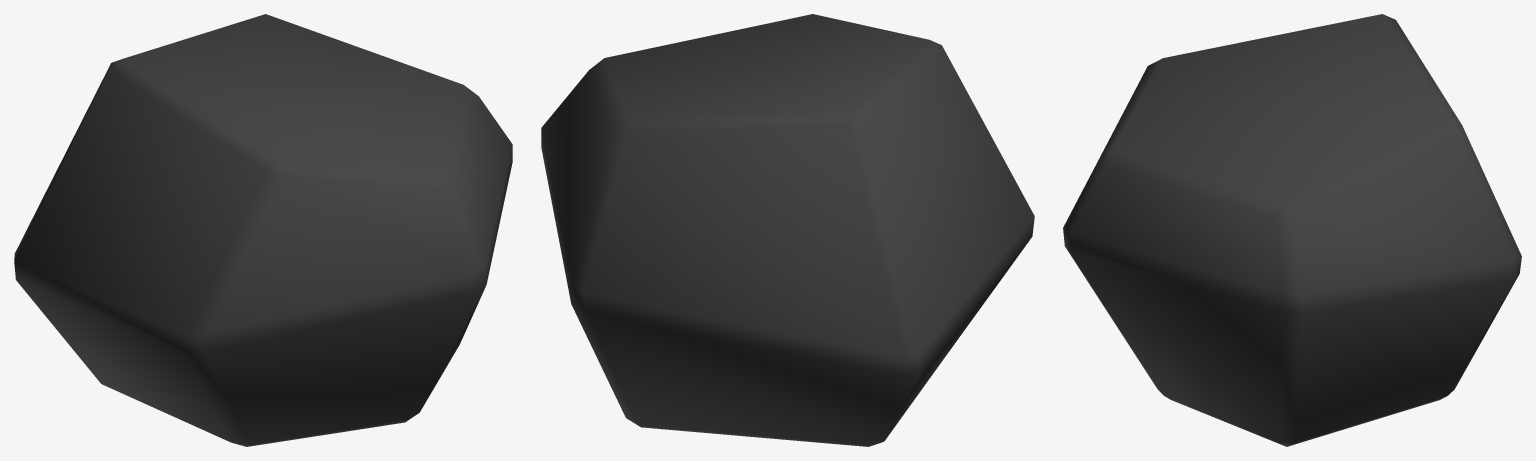
Rendered from stone_element.glb.
The picture shows the model from 3 angles, left to right: view 1: azimuth 30°, elevation 25°; view 2: azimuth 150°, elevation 25°; view 3: azimuth 270°, elevation 25°; orthographic projection. The views are drawn at different scales.
Parts seen in each view (by area): view 1: geometry_0; view 2: geometry_0; view 3: geometry_0.
Part boxes in pixels (x1,y1,x2,y2): geometry_0: (14,14,512,446); geometry_0: (541,14,1034,446); geometry_0: (1063,14,1521,446).
Size of the model in its own units: 0.8842 by 0.6407 by 0.8689.
Materials: 1 (1 with a texture image).
